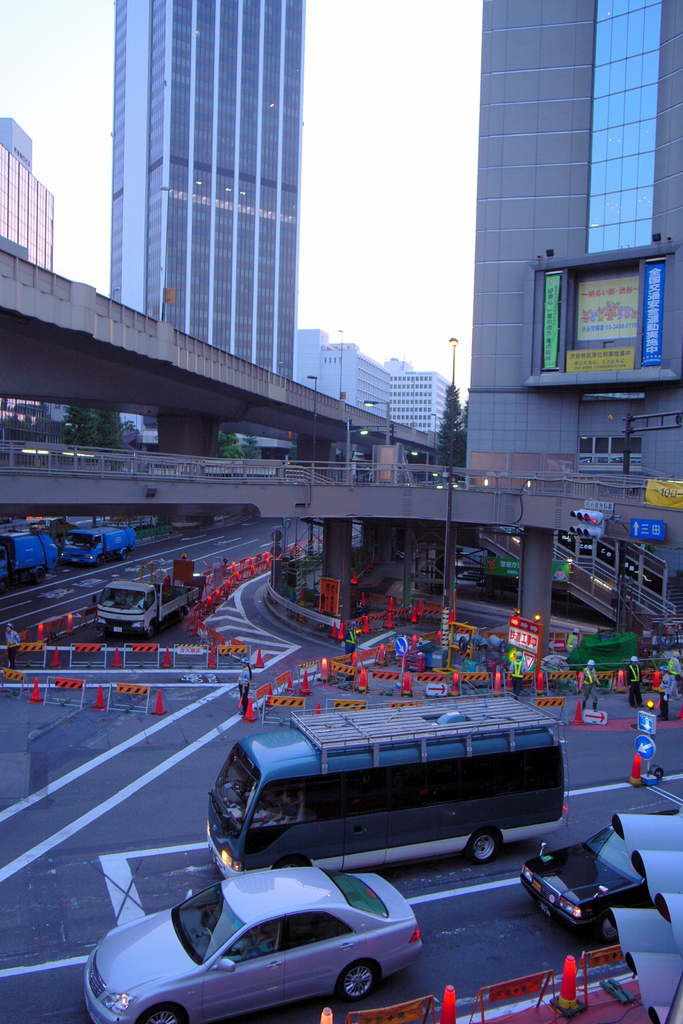Car: (81, 860, 429, 1023), (513, 816, 662, 940)
